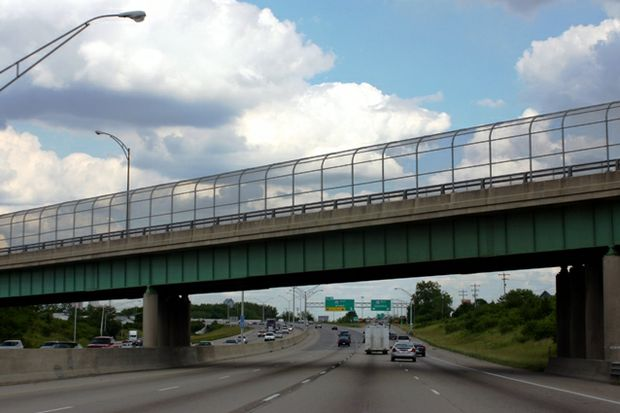bridge: (1, 100, 619, 300)
